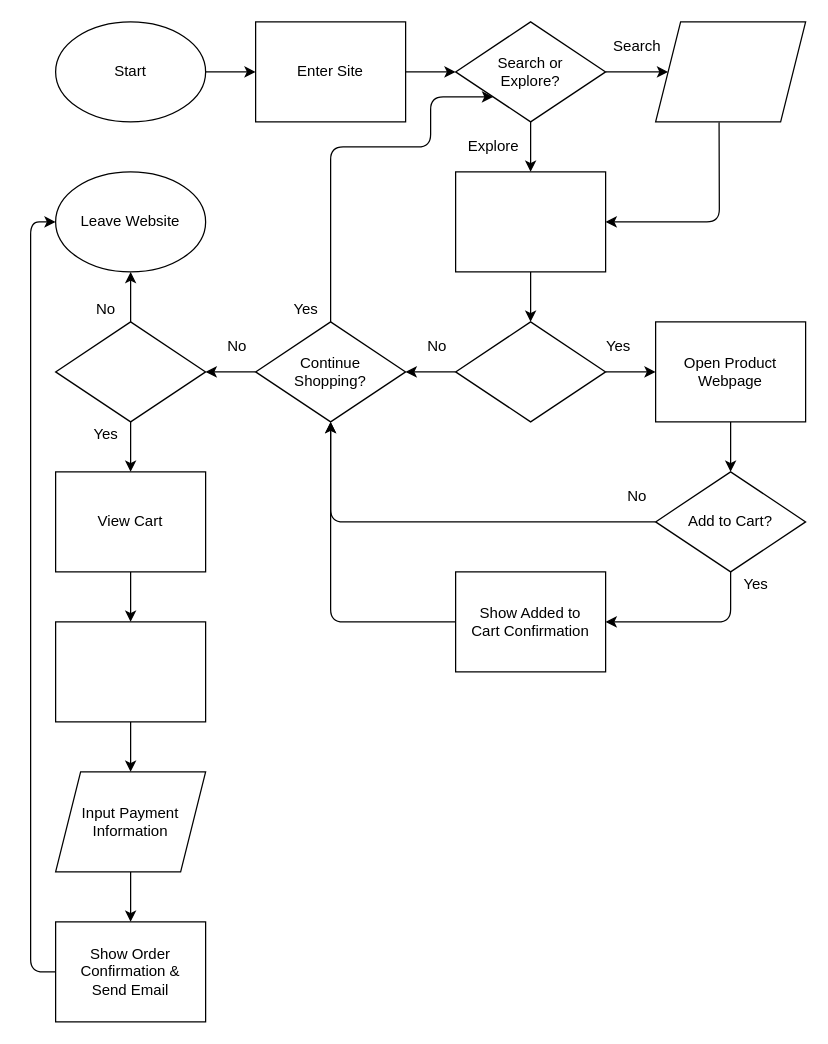
Some shapes in this 828 by 1044 pixel diagram are drawn without their labels. Here are the shapes that lost their labels. From the top down, the centre of each, then its label:
At [730,71]: "Get User Input".
At [530,221]: "Show Products".
At [130,371]: "Checkout?".
At [530,371]: "View Specific Product?".
At [130,671]: "View Payment".
